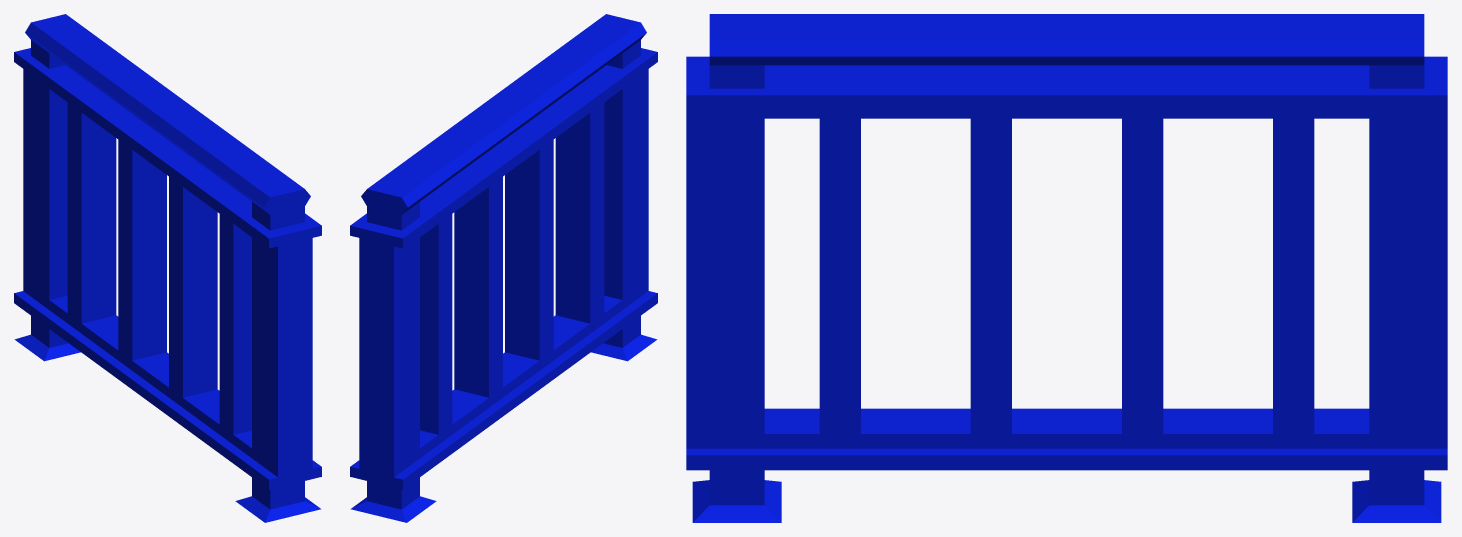
File: Barandilla.fbx
The picture shows the model from 3 angles, left to right: view 1: azimuth 30°, elevation 25°; view 2: azimuth 150°, elevation 25°; view 3: azimuth 270°, elevation 25°; orthographic projection. The views are drawn at different scales.
Visible parts, largest first — view 1: Barandilla; view 2: Barandilla; view 3: Barandilla.
Part boxes in pixels (x1,y1,x2,y2): Barandilla: [14, 14, 321, 522]; Barandilla: [350, 14, 657, 522]; Barandilla: [686, 14, 1447, 522].
Bounding box in the file's own units: 23.1 × 124 × 180.
